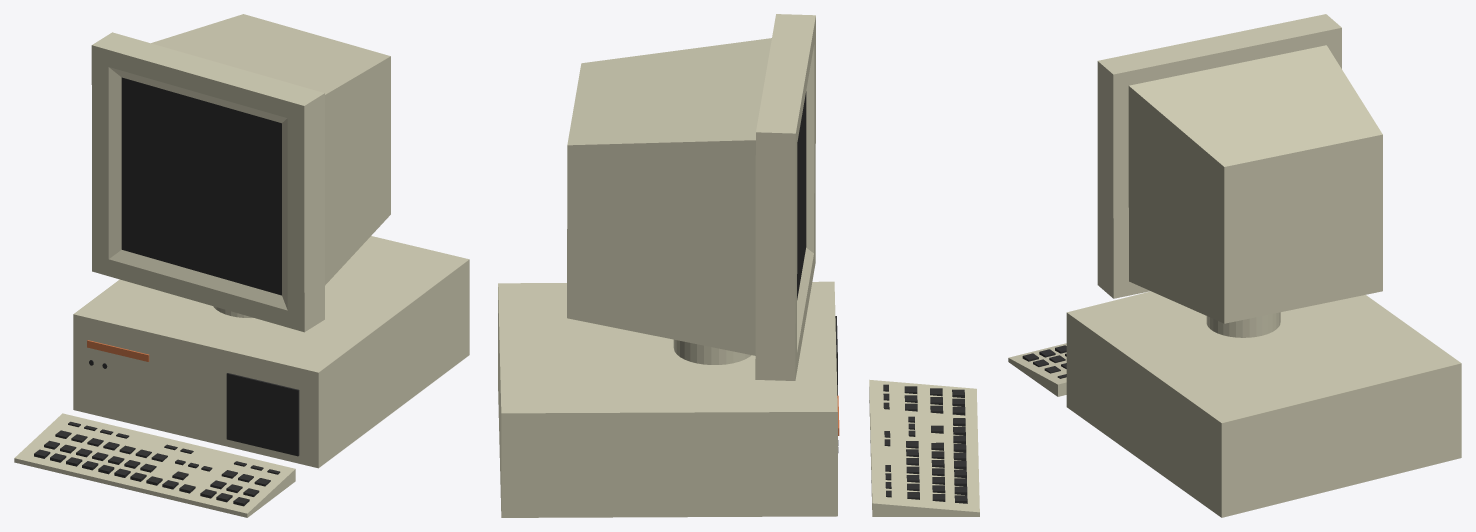
File: computer moniter.fbx
The picture shows the model from 3 angles, left to right: view 1: azimuth 30°, elevation 25°; view 2: azimuth 150°, elevation 25°; view 3: azimuth 270°, elevation 25°; orthographic projection. The views are drawn at different scales.
Parts seen in each view (by area): view 1: Box20243; view 2: Box20243; view 3: Box20243.
Part boxes in pixels (bbox=[...]): Box20243: bbox=[14, 14, 469, 517]; Box20243: bbox=[498, 14, 979, 517]; Box20243: bbox=[1008, 14, 1461, 517].
Bounding box in the file's own units: 17.88 × 13.5 × 15.83.
